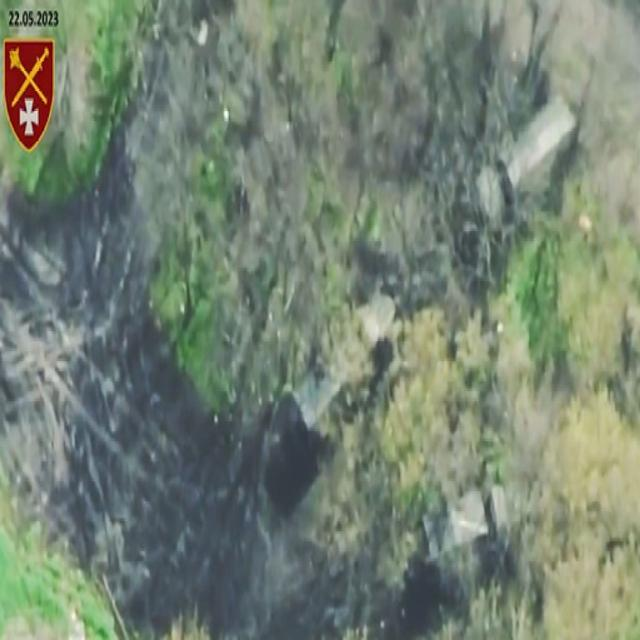TRUCK: (287, 269, 405, 464), (471, 82, 585, 238), (416, 471, 514, 573)
